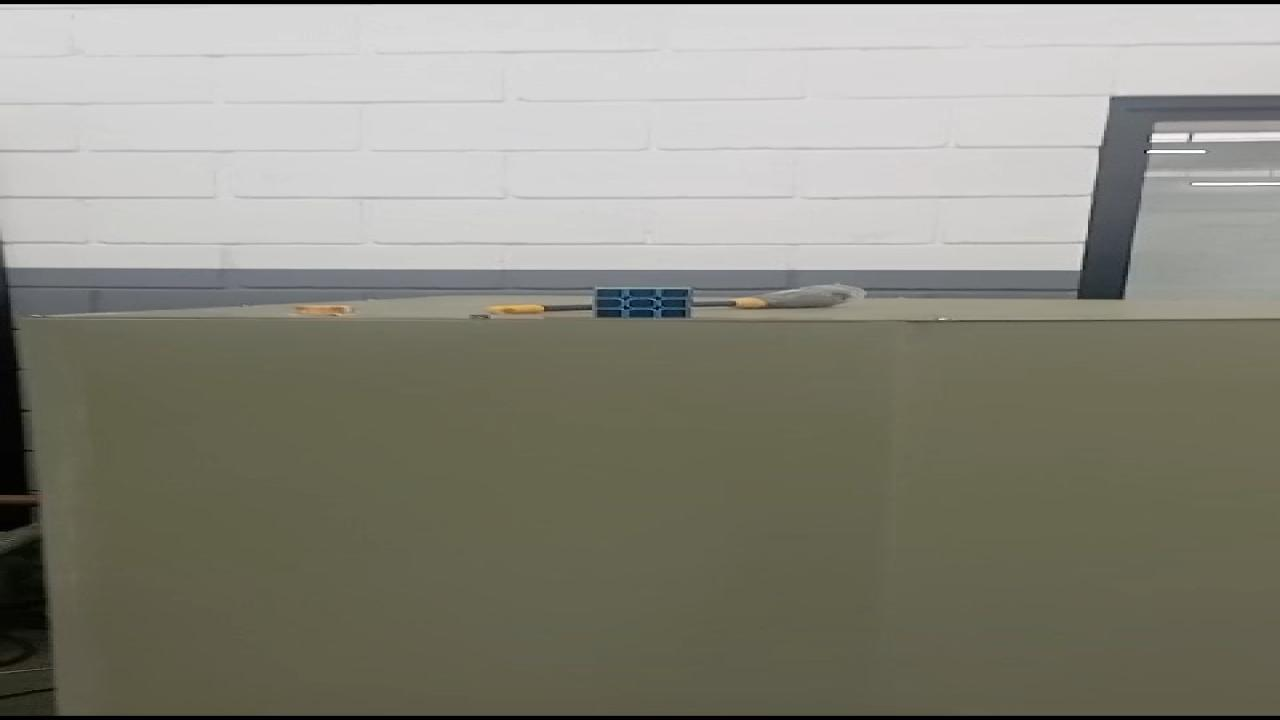Cube: (590, 286, 696, 321)
